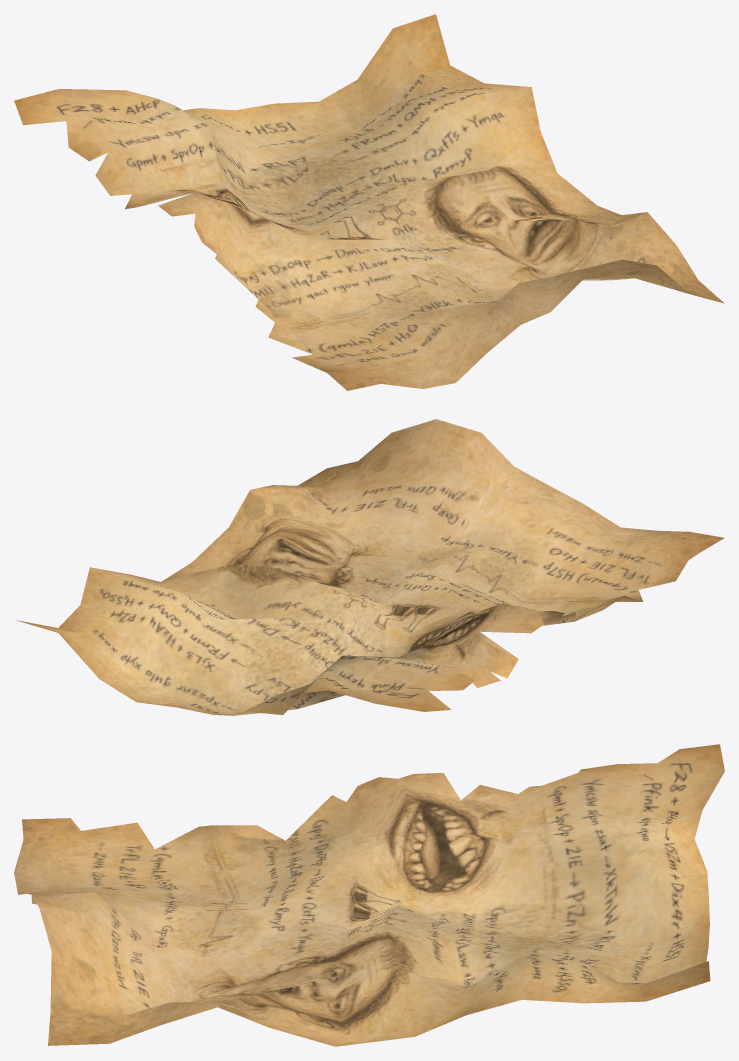
Rendered from SN_Research_Paper.007.fbx.
The picture shows the model from 3 angles, top to bottom: view 1: azimuth 30°, elevation 25°; view 2: azimuth 150°, elevation 25°; view 3: azimuth 270°, elevation 25°; orthographic projection. The views are drawn at different scales.
Parts seen in each view (by area): view 1: SN_Research_Paper.007; view 2: SN_Research_Paper.007; view 3: SN_Research_Paper.007.
Part boxes in pixels (x1,y1,x2,y2): SN_Research_Paper.007: (14,14,724,390); SN_Research_Paper.007: (15,419,724,715); SN_Research_Paper.007: (14,744,724,1046).
Bounding box in the file's own units: 0.236 × 0.0434 × 0.3035.
